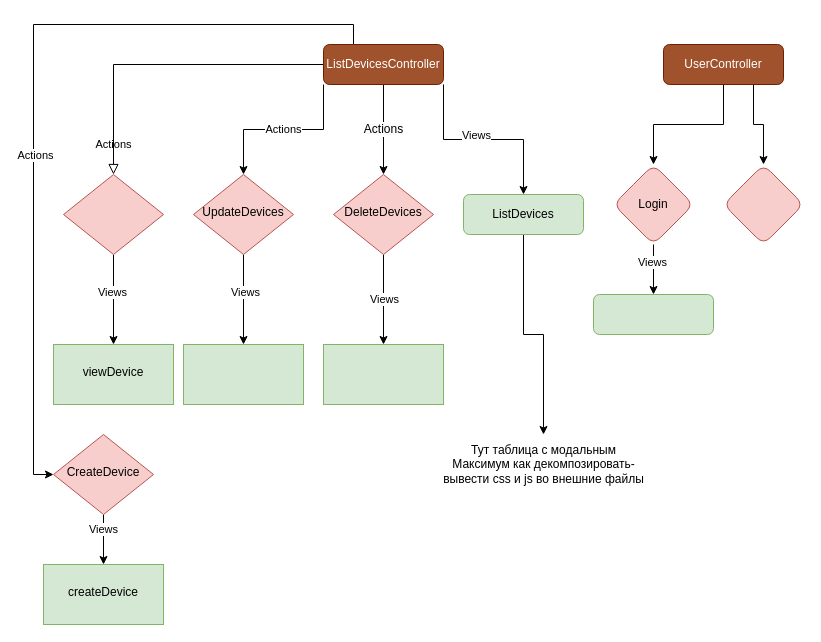
The diagram is 821 pixels wide and 642 high, and some of its shapes have lost their labels. Here are the shapes that lost their labels. From the top down, the centre of each, then its label:
[113,214]: ViewDevices
[763,204]: Logout
[653,314]: FormLogin
[243,374]: updateDevice
[383,374]: deleteDevice
